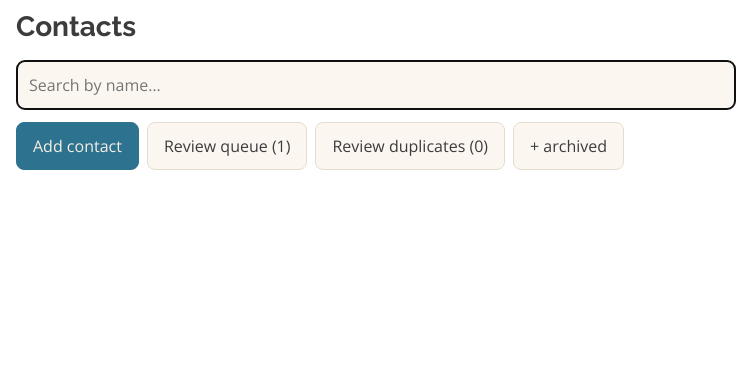
Test: held merges in the review queue (feature 069) › offers the resolution only to whoever may make it (FR-013)
The width and height of the screenshot is (753, 370).
Click the button "Review queue (1)" at (227, 146), box [147,122,308,170]
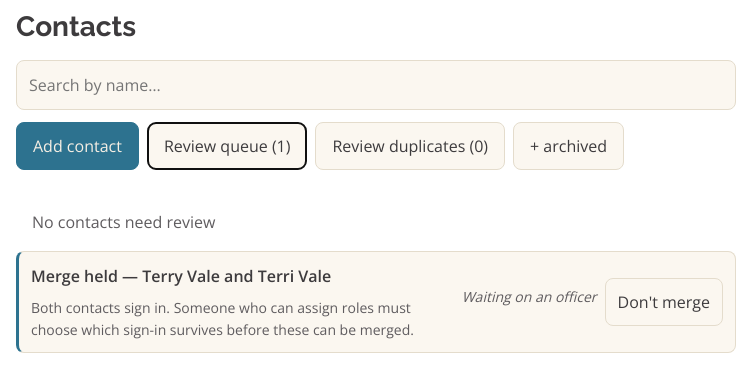
Check: the text "Waiting on an officer" is shown, box [462,287,597,306]
